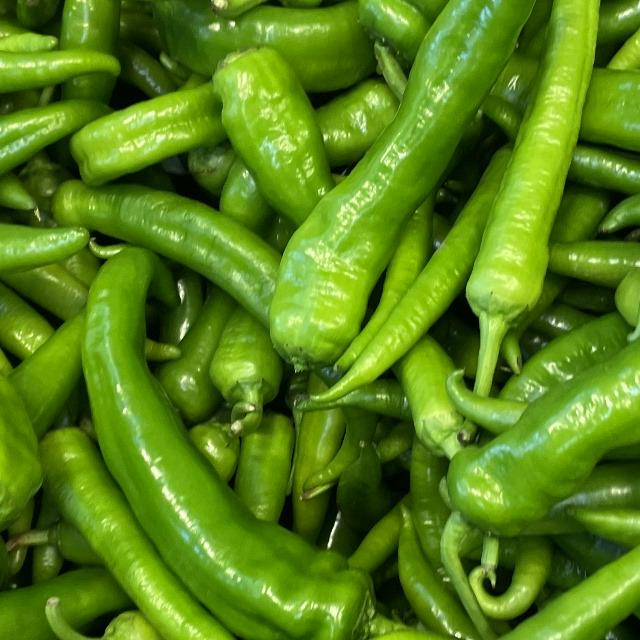chili_pepper: (262, 0, 595, 415)
